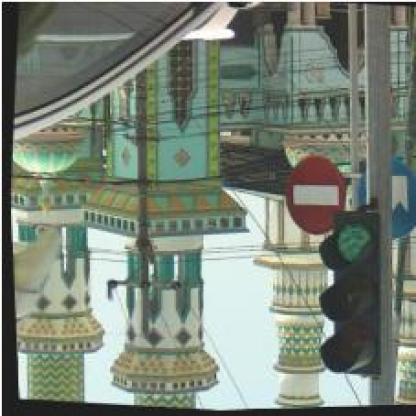green: (304, 210, 385, 384)
